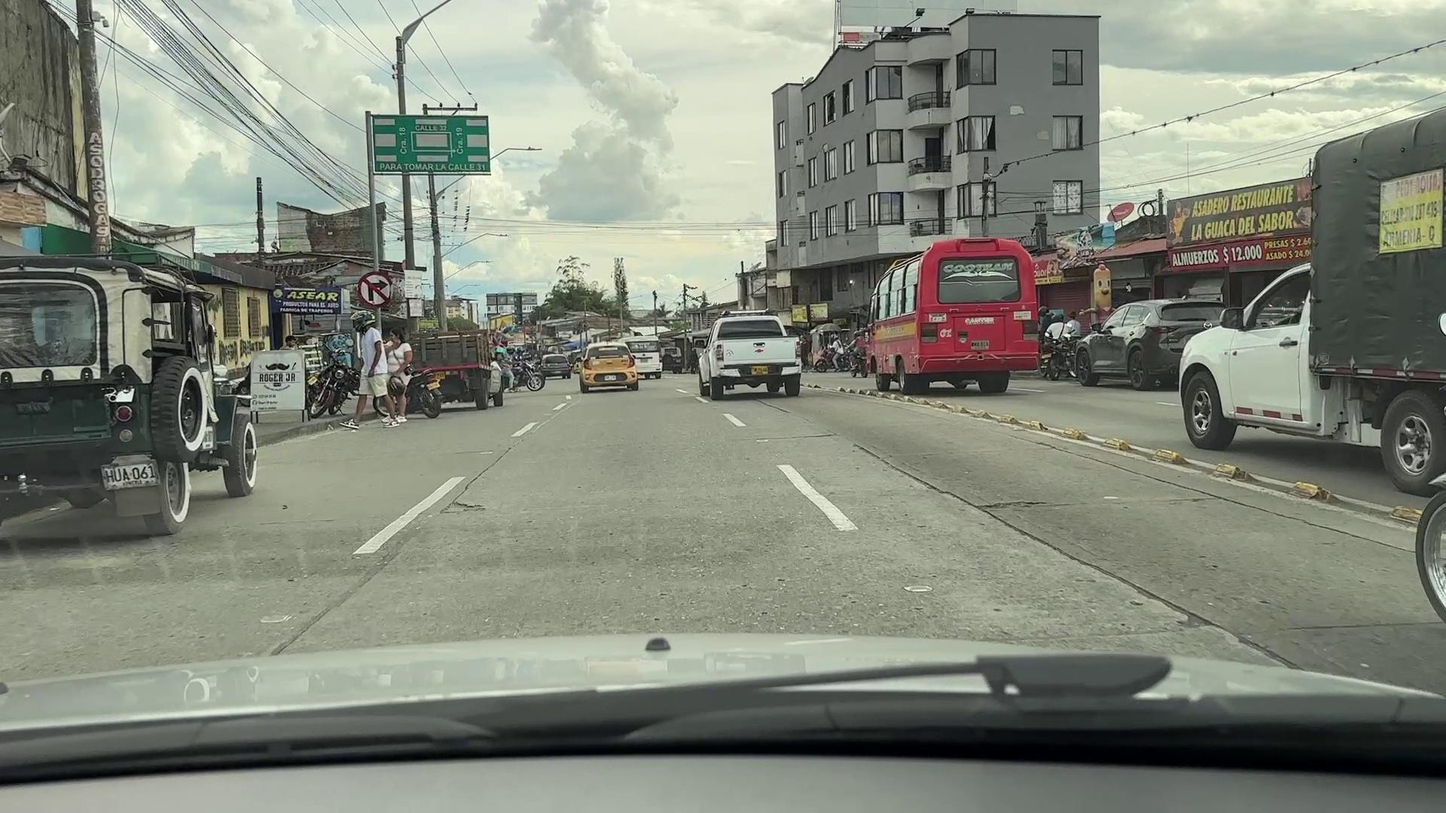bache: (979, 501, 1046, 510), (441, 502, 485, 513)
